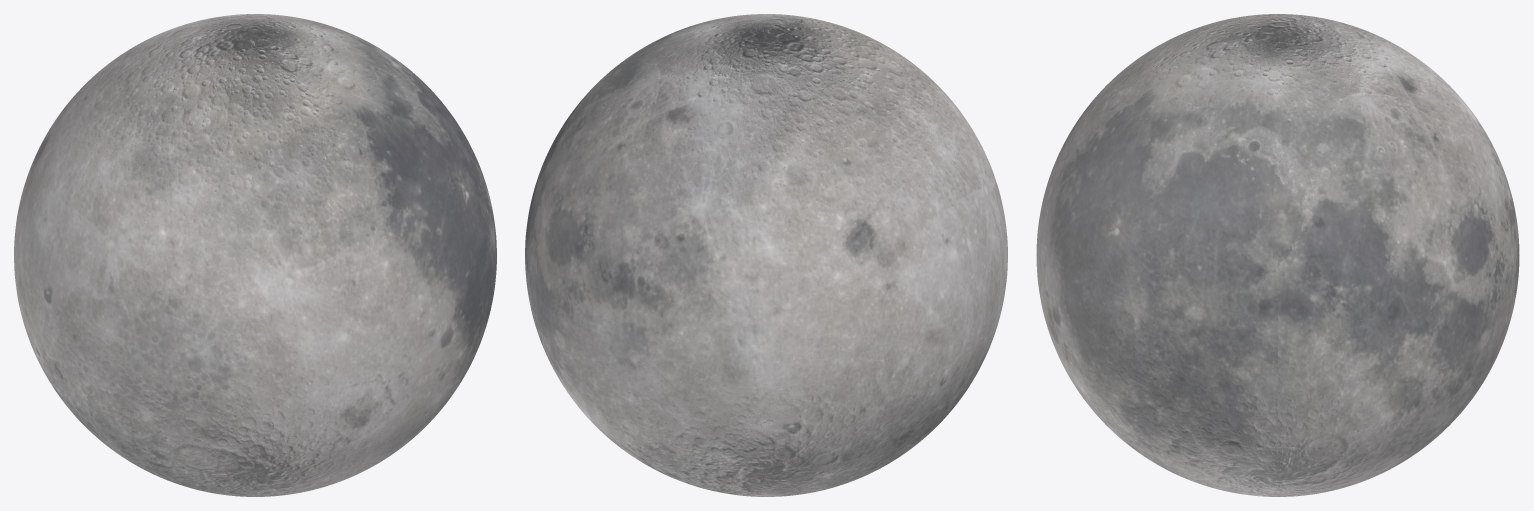
Rendered from moon.obj.
3 renders of one model, left to right at view 1: azimuth 30°, elevation 25°; view 2: azimuth 150°, elevation 25°; view 3: azimuth 270°, elevation 25°, orthographic.
Parts seen in each view (by area): view 1: Plane_Plane.001; view 2: Plane_Plane.001; view 3: Plane_Plane.001.
Part boxes in pixels (x1,y1,x2,y2): Plane_Plane.001: (14, 14, 496, 496); Plane_Plane.001: (525, 14, 1007, 496); Plane_Plane.001: (1036, 14, 1519, 496).
Size of the model in its own units: 0.525 by 0.525 by 0.525.
1 material, 1 textured.
